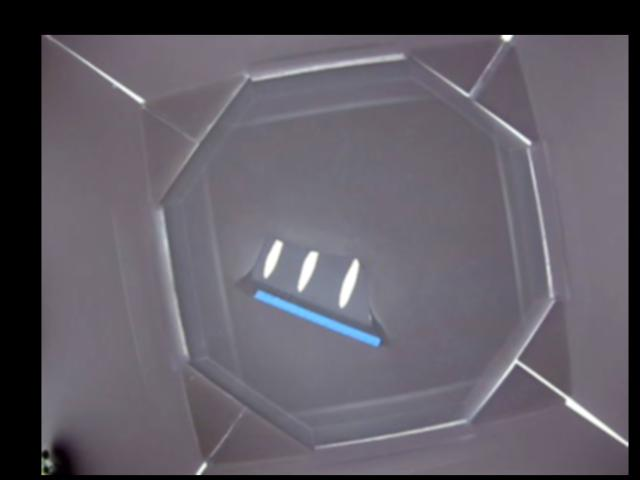China: (236, 236, 390, 349)
